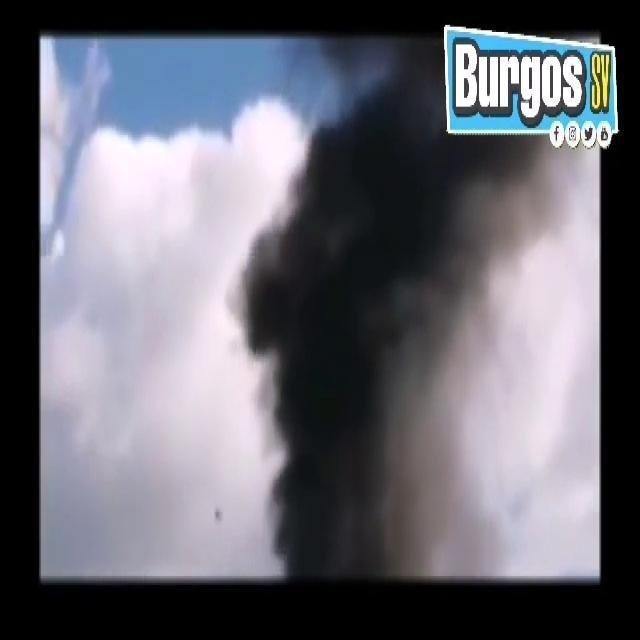Smoke: (238, 38, 554, 580)
